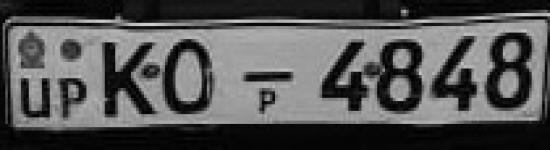-: (240, 67, 297, 86)
4: (312, 31, 373, 120), (431, 33, 482, 117)
8: (486, 30, 540, 117), (379, 31, 428, 116)
K: (96, 32, 160, 123)
O: (163, 33, 221, 118)
P: (54, 72, 88, 124)
U: (18, 71, 52, 120)
